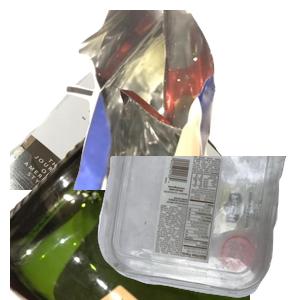glass: (10, 120, 250, 300)
paper: (10, 46, 250, 226)
plastic: (95, 156, 300, 300)
trash: (63, 10, 300, 190)
